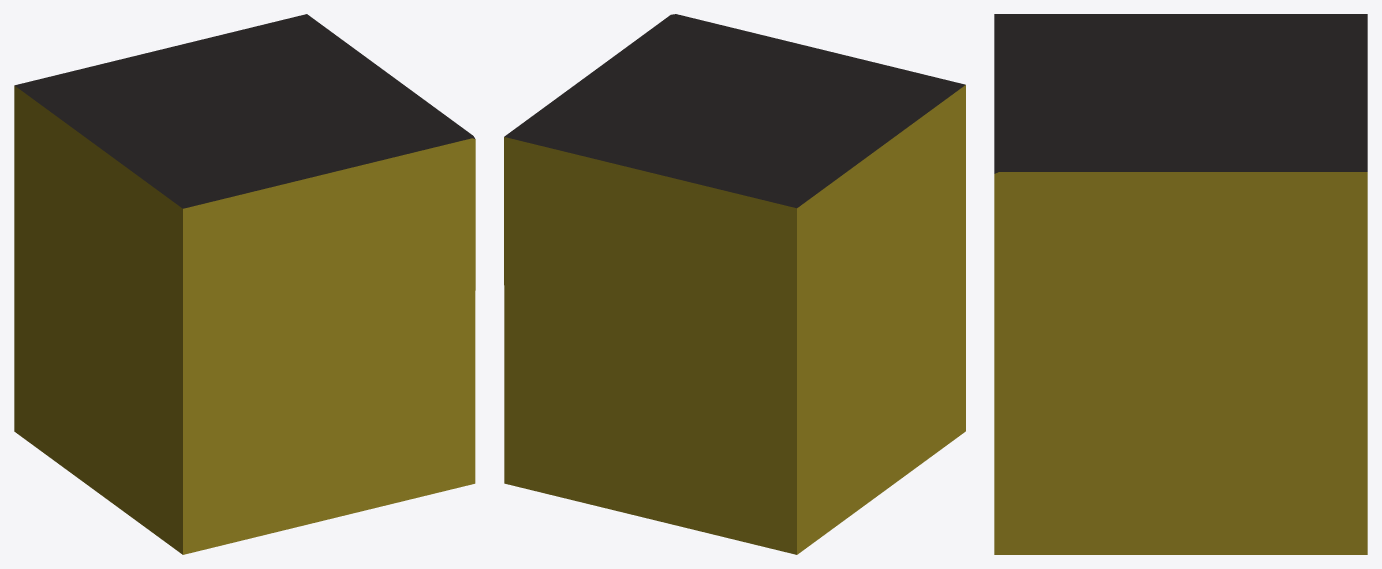
The model's file is Corner Unit.fbx.
The picture shows the model from 3 angles, left to right: view 1: azimuth 30°, elevation 25°; view 2: azimuth 150°, elevation 25°; view 3: azimuth 270°, elevation 25°; orthographic projection. The views are drawn at different scales.
Visible parts, largest first — view 1: Corner_Unit; view 2: Corner_Unit; view 3: Corner_Unit.
Part boxes in pixels (box(x1,y1,x2,y2)): Corner_Unit: box(14, 14, 475, 554); Corner_Unit: box(504, 14, 965, 554); Corner_Unit: box(994, 14, 1367, 554).
Bounding box in the file's own units: 105 × 119 × 105.
